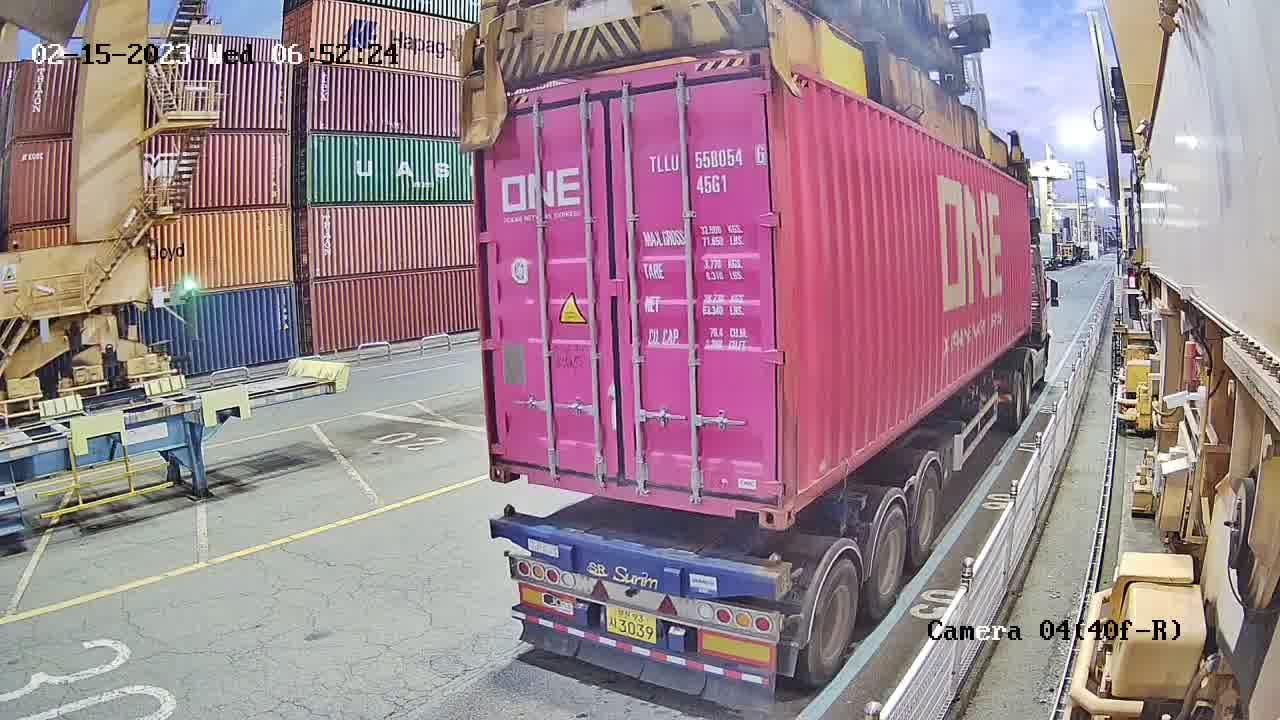Chassis: (488, 522, 783, 602)
Cone: (763, 551, 793, 599), (494, 503, 525, 524)
Hole_L: (784, 450, 818, 530), (488, 429, 536, 483)
Hole_R: (727, 468, 785, 530)
Tire: (804, 561, 862, 683), (868, 509, 906, 619), (906, 472, 944, 561)
